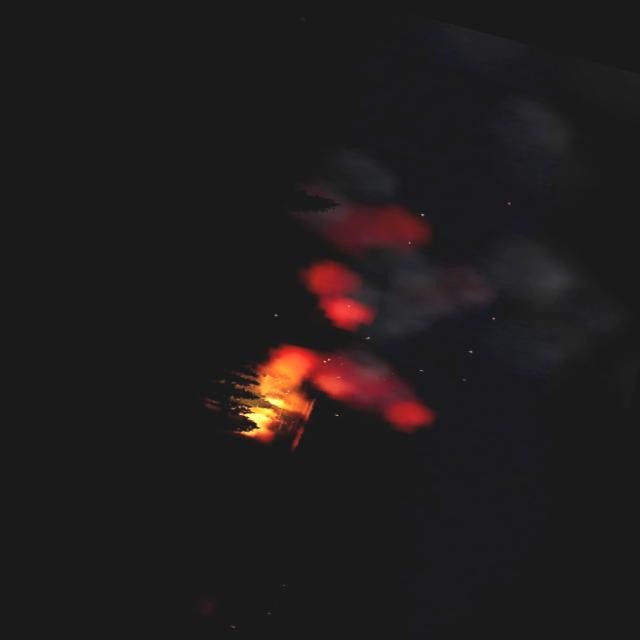fire: (233, 335, 324, 451)
smoke: (278, 185, 586, 388), (278, 333, 446, 438)
